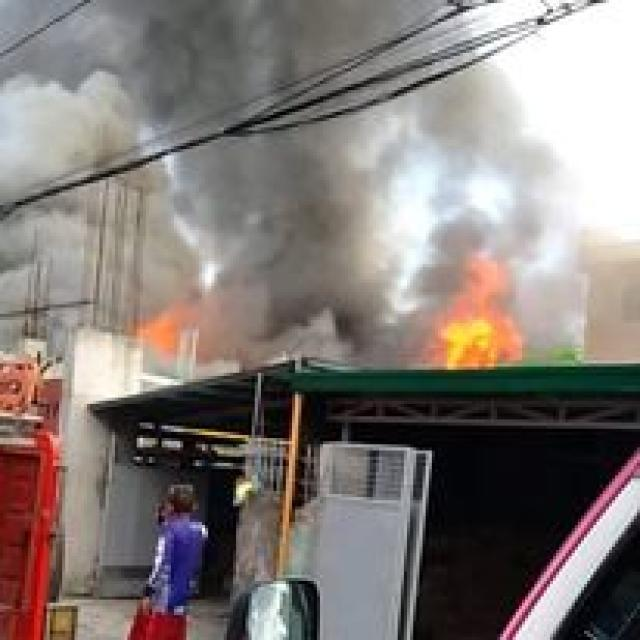Fire: (426, 274, 525, 368), (147, 316, 196, 358)
Smoke: (0, 75, 196, 352)
